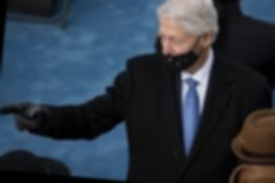mask_weared_incorrect: (156, 1, 214, 69)
